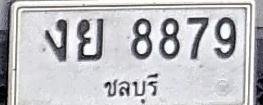7: (186, 16, 209, 60)
8: (131, 17, 152, 60), (159, 17, 180, 59)
9: (214, 16, 236, 58)
A07: (44, 18, 68, 61)
A34: (76, 18, 104, 62)
CBI: (100, 71, 161, 104)
